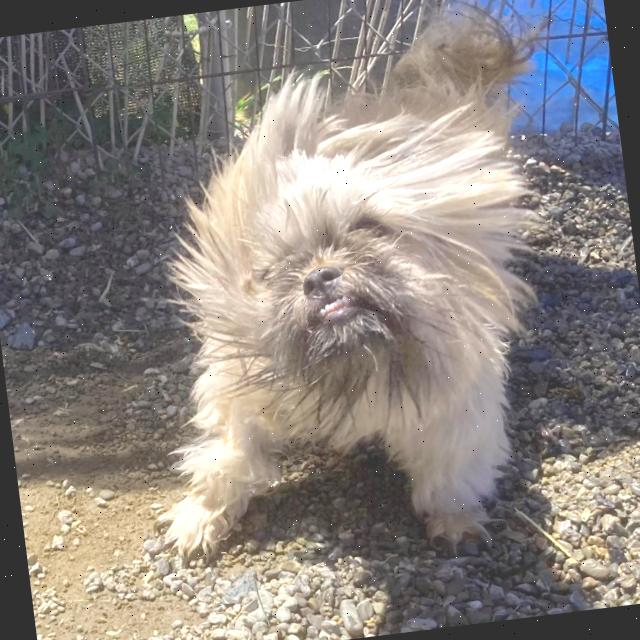shih_tzu_dog: (146, 72, 559, 453)
